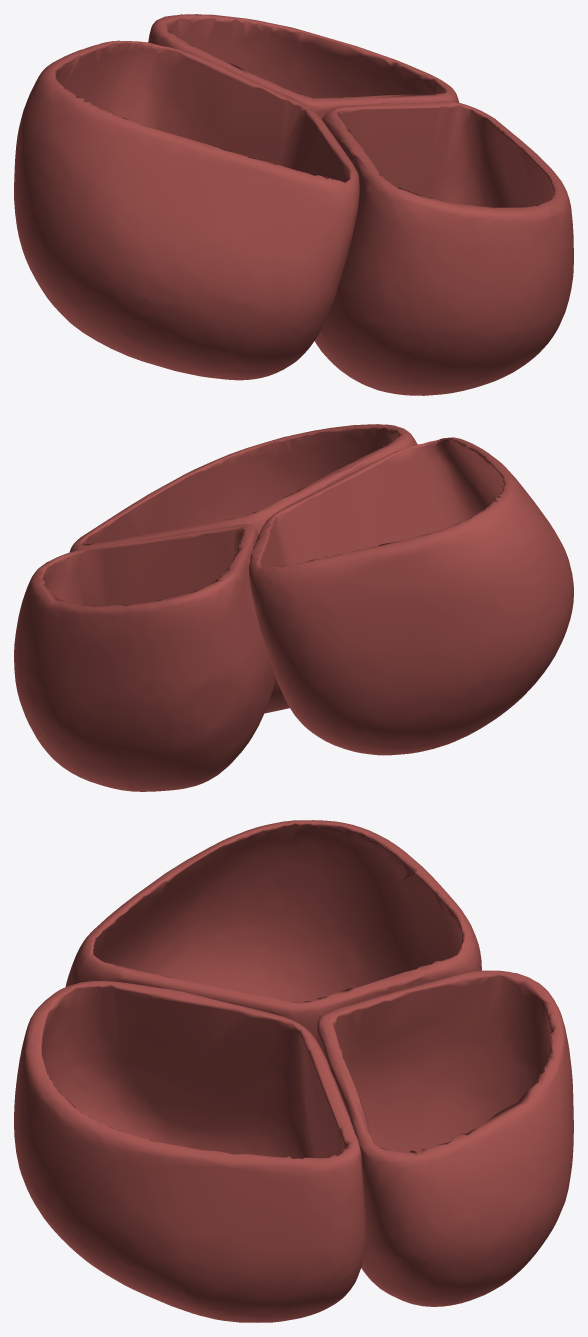
The model's file is FMA7246.glb.
The picture shows the model from 3 angles, top to bottom: view 1: azimuth 30°, elevation 25°; view 2: azimuth 150°, elevation 25°; view 3: azimuth 270°, elevation 25°; orthographic projection. The views are drawn at different scales.
Parts seen in each view (by area): view 1: FMA7246; view 2: FMA7246; view 3: FMA7246.
Part boxes in pixels (bbox=[...]): FMA7246: bbox=[14, 14, 573, 395]; FMA7246: bbox=[14, 424, 573, 791]; FMA7246: bbox=[14, 820, 573, 1322].
Size of the model in its own units: 0.0323 by 0.0205 by 0.0321.
